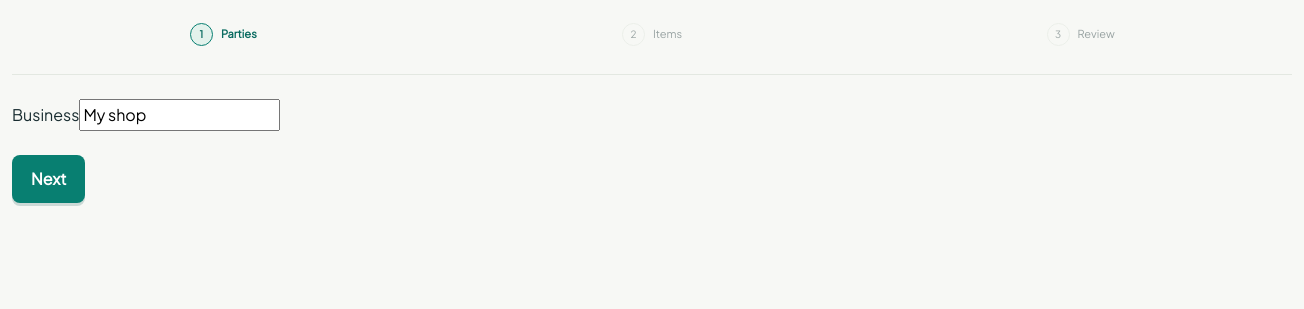
Test case: explicit document steps › validates declared fields and keeps entered values across steps
Click the button "Next" at [49, 179], box [12,155,86,203]
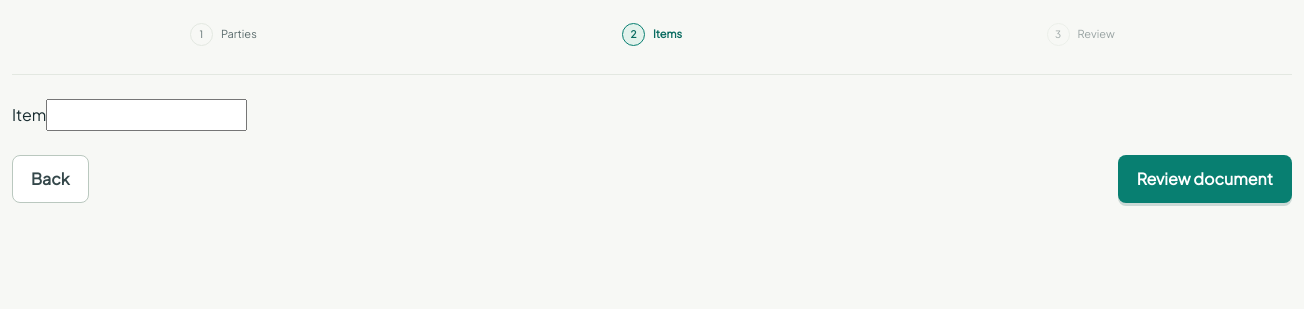
Now the field labelled "Item" is shown, box [46,99,247,131]
Click the button "Review document" at [1205, 179], box [1118,155,1292,203]
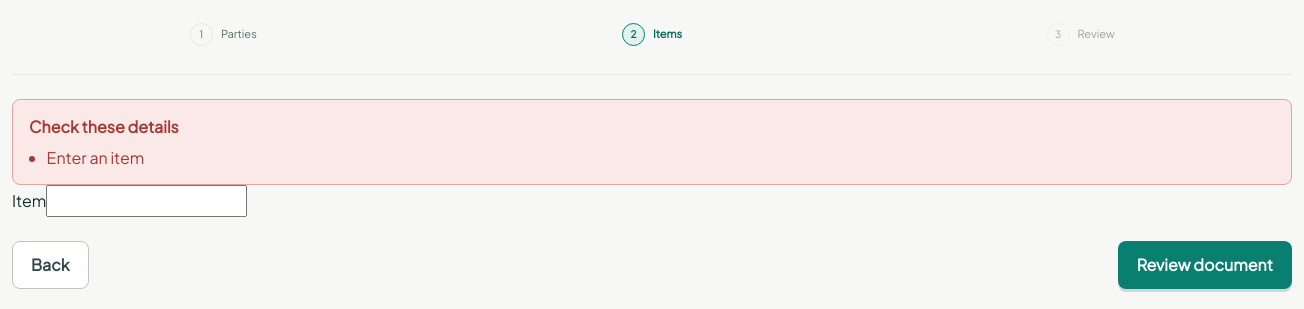
Now the message shows "Enter an item", box [47,147,144,168]
Click the button "Back" at [50, 265], box [12,241,89,289]
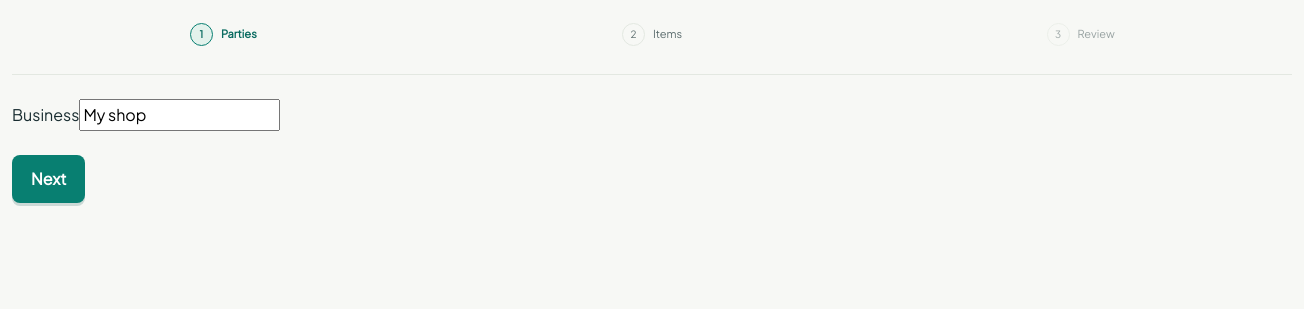
Now the field labelled "Business" holds "My shop", box [79,99,280,131]
